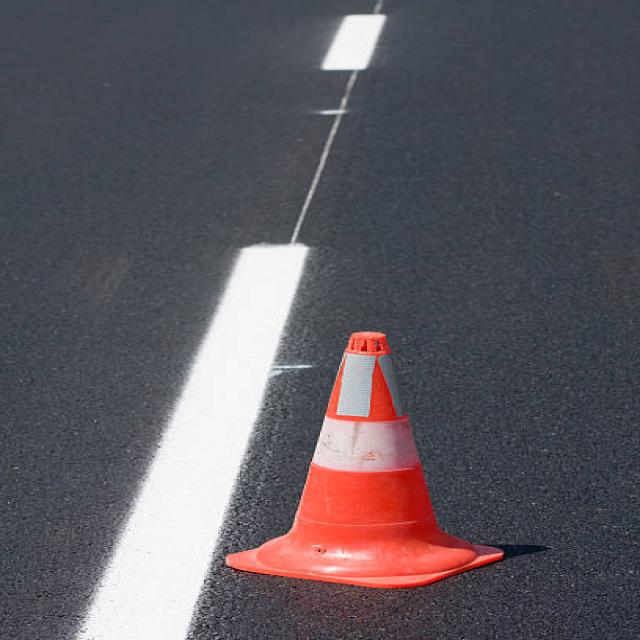Traffic Cone: (199, 303, 536, 603)
